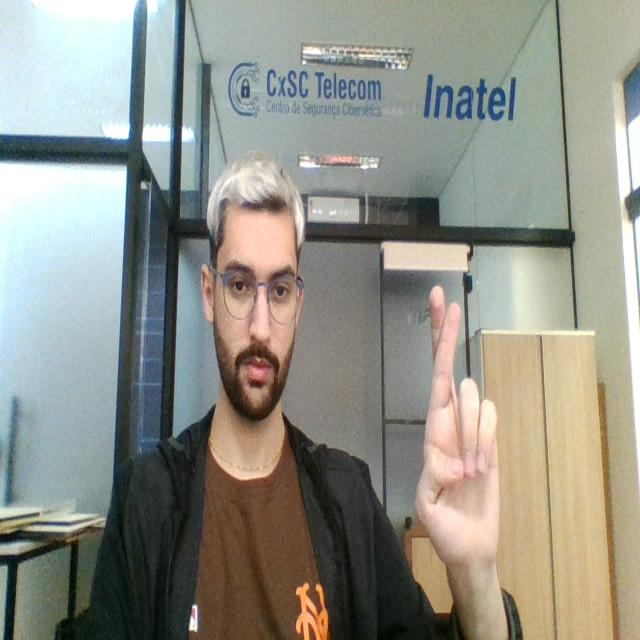R: (413, 281, 503, 571)
